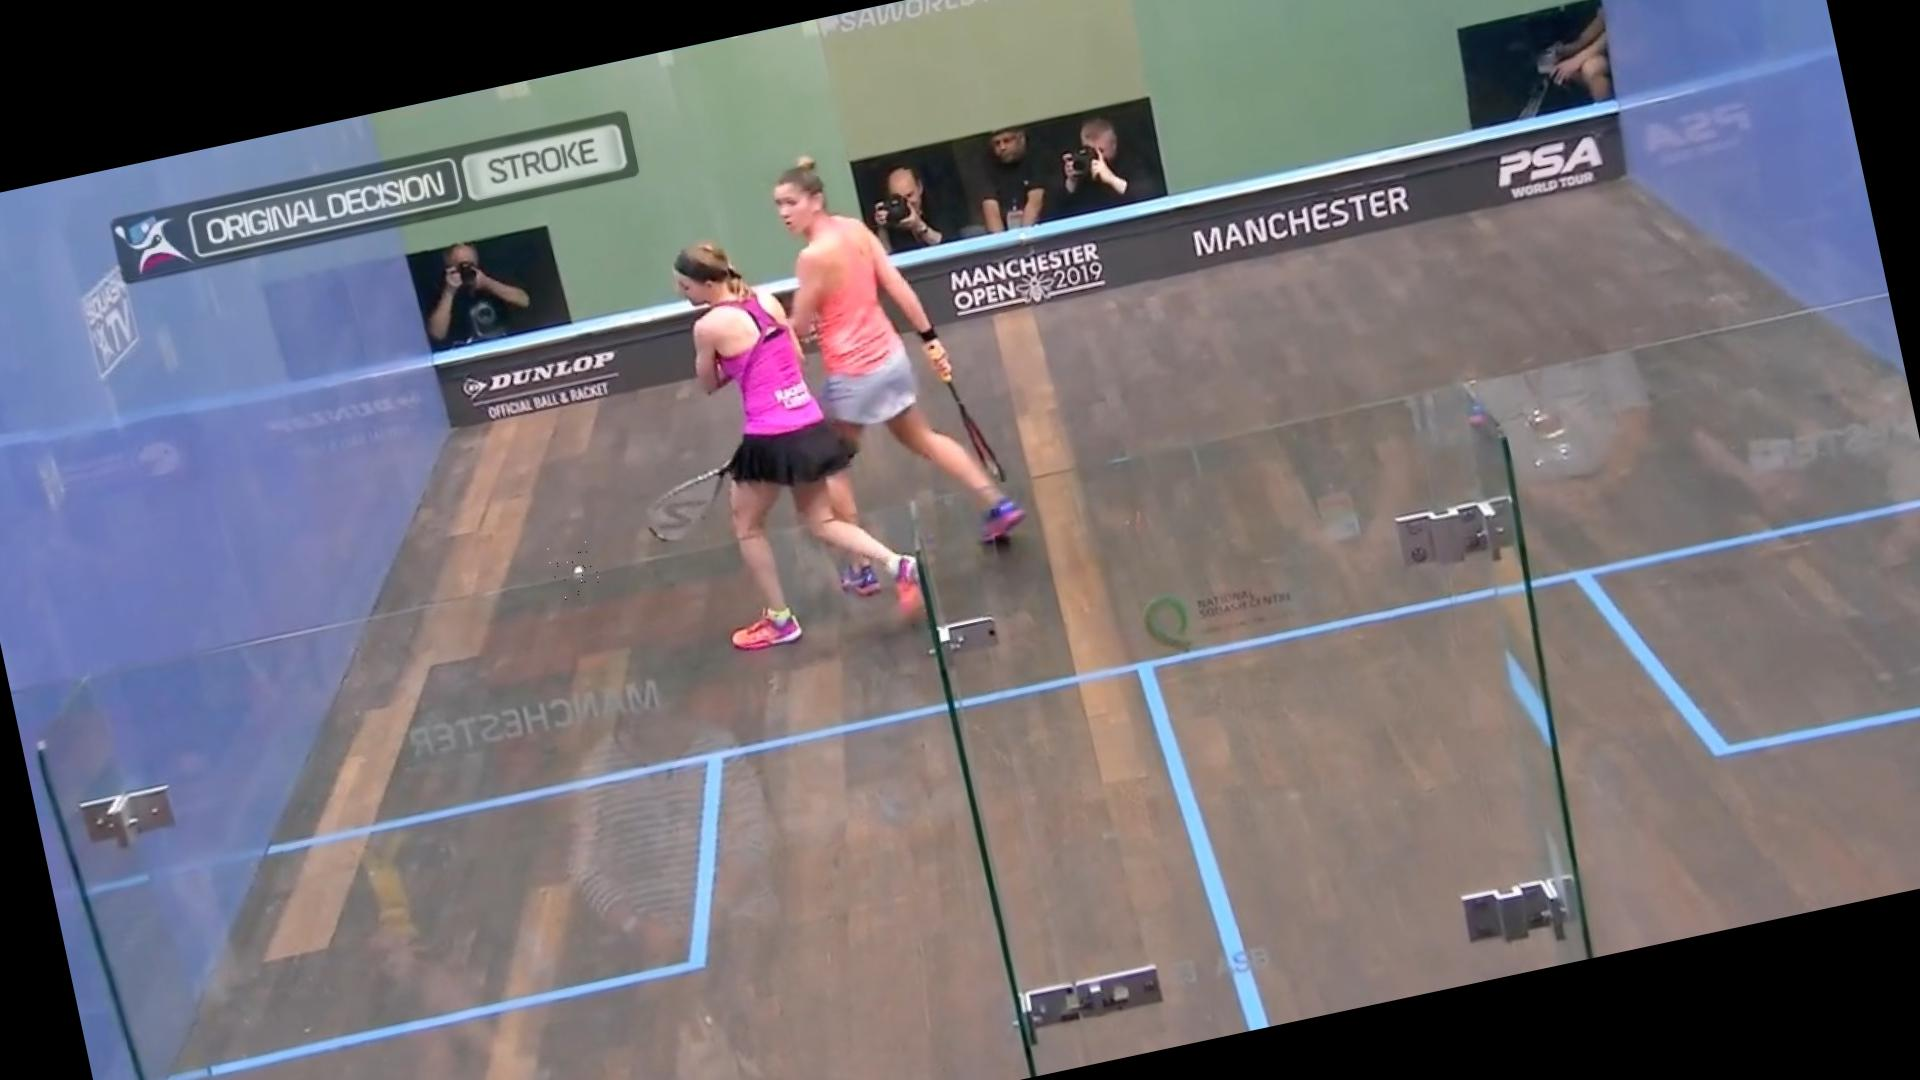Squash-Ball: (543, 538, 604, 603)
